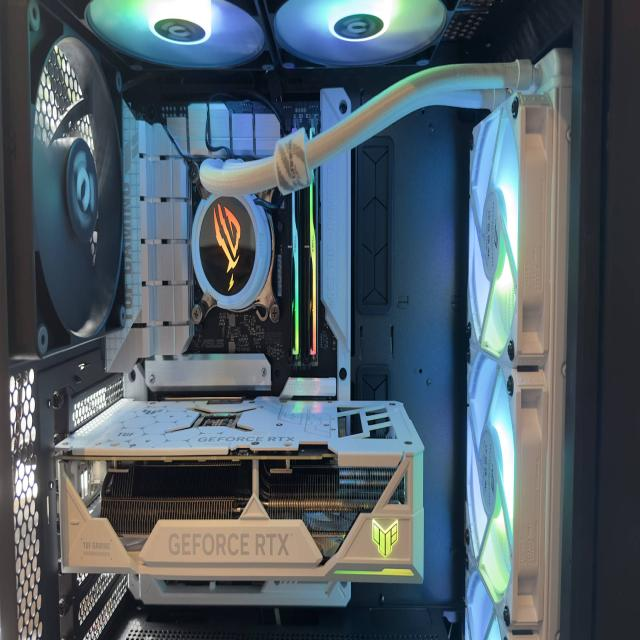electronics: (0, 0, 126, 639), (59, 398, 422, 606), (107, 89, 350, 398), (56, 396, 423, 582), (465, 50, 570, 638), (199, 60, 533, 195), (188, 153, 350, 398), (7, 35, 125, 356), (467, 50, 569, 367), (32, 37, 122, 354), (82, 0, 450, 69), (105, 104, 193, 373), (468, 95, 552, 366), (192, 185, 319, 364), (466, 348, 548, 625), (538, 49, 574, 636), (539, 50, 572, 636), (283, 152, 351, 398), (288, 153, 351, 396), (123, 105, 192, 326), (468, 111, 518, 353), (87, 0, 264, 68), (467, 354, 515, 600), (273, 0, 446, 66), (188, 89, 350, 159), (191, 194, 279, 321), (192, 194, 279, 322), (3, 366, 43, 639), (318, 152, 353, 398), (278, 184, 319, 364), (128, 574, 351, 607), (355, 136, 393, 313), (141, 347, 278, 396), (286, 172, 320, 364), (181, 95, 281, 159), (123, 110, 191, 204), (287, 175, 320, 364), (88, 0, 212, 46), (56, 375, 124, 432), (184, 101, 248, 159), (73, 572, 129, 636), (301, 176, 319, 358), (463, 569, 505, 639), (292, 89, 350, 137), (289, 194, 302, 357), (308, 89, 350, 137), (442, 0, 490, 41), (141, 204, 188, 241), (329, 12, 389, 39), (280, 375, 343, 399), (320, 88, 351, 128), (253, 113, 281, 156), (278, 104, 295, 124), (193, 300, 208, 321), (29, 12, 44, 32), (319, 380, 335, 396), (216, 159, 241, 169), (172, 127, 187, 143), (246, 132, 257, 153), (216, 159, 239, 169), (14, 111, 25, 126), (59, 599, 70, 611), (224, 159, 236, 169), (148, 382, 160, 392), (310, 117, 317, 134), (167, 117, 176, 130), (309, 121, 316, 137), (245, 114, 256, 124), (216, 104, 226, 115), (176, 335, 185, 347), (206, 115, 211, 136), (533, 452, 540, 465), (63, 403, 73, 412), (252, 316, 260, 326), (247, 377, 255, 387), (230, 113, 235, 126), (7, 574, 12, 585), (2, 620, 7, 629), (292, 116, 296, 127), (276, 126, 279, 139), (207, 104, 211, 113), (221, 149, 227, 155), (281, 380, 286, 387), (250, 113, 253, 124), (121, 308, 123, 323), (533, 532, 539, 537), (182, 119, 186, 126), (289, 393, 298, 396), (469, 578, 478, 581), (217, 160, 222, 165), (280, 222, 284, 228), (533, 517, 539, 521), (469, 587, 476, 590), (235, 143, 239, 148), (331, 177, 335, 182), (51, 340, 55, 345), (417, 444, 421, 449), (532, 619, 537, 623), (180, 208, 183, 214), (124, 143, 127, 149), (8, 111, 11, 117), (320, 340, 322, 348), (204, 343, 208, 347), (280, 249, 282, 257), (190, 108, 195, 111), (197, 342, 202, 345), (77, 398, 80, 403), (85, 363, 90, 366), (329, 377, 333, 380), (225, 315, 228, 319), (220, 315, 224, 318), (57, 414, 60, 418), (160, 107, 163, 111), (525, 452, 528, 456), (566, 396, 568, 402), (271, 194, 273, 199), (136, 364, 139, 367), (303, 108, 306, 111), (129, 312, 132, 315), (341, 108, 344, 111), (280, 292, 282, 296), (209, 151, 216, 152), (512, 345, 513, 352), (331, 184, 333, 187), (187, 207, 190, 209), (4, 395, 6, 398), (188, 334, 190, 337), (330, 18, 332, 21), (38, 12, 39, 18), (222, 151, 225, 153), (478, 635, 484, 636), (27, 105, 28, 110), (237, 114, 239, 116), (204, 297, 206, 299), (113, 82, 115, 84), (256, 120, 257, 123), (189, 217, 190, 220), (125, 159, 126, 162), (114, 76, 115, 79), (567, 404, 568, 407), (276, 121, 277, 124), (360, 346, 361, 348), (282, 246, 283, 248), (3, 631, 5, 632), (40, 466, 41, 468), (64, 420, 66, 421), (83, 412, 84, 414), (269, 34, 270, 36), (500, 176, 502, 177), (564, 91, 565, 92), (83, 403, 84, 404), (147, 376, 148, 377), (224, 140, 226, 140), (343, 156, 343, 156), (322, 374, 325, 374), (12, 588, 12, 590), (72, 422, 72, 424), (52, 337, 52, 338), (23, 107, 23, 108), (312, 130, 312, 134), (343, 105, 343, 105), (314, 383, 314, 384), (468, 601, 468, 604), (56, 402, 56, 403), (59, 394, 59, 394), (112, 36, 112, 36), (94, 26, 95, 26), (472, 178, 472, 180), (505, 115, 505, 116)
